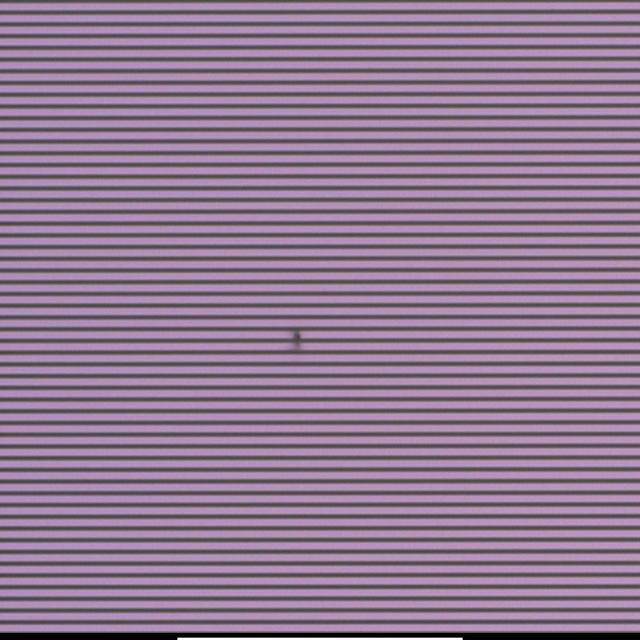nonvisual: (286, 325, 306, 357)
